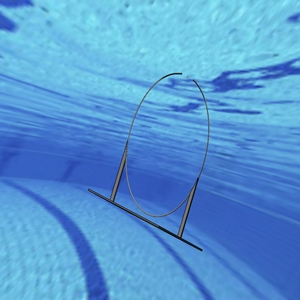circle: (87, 69, 211, 250)
